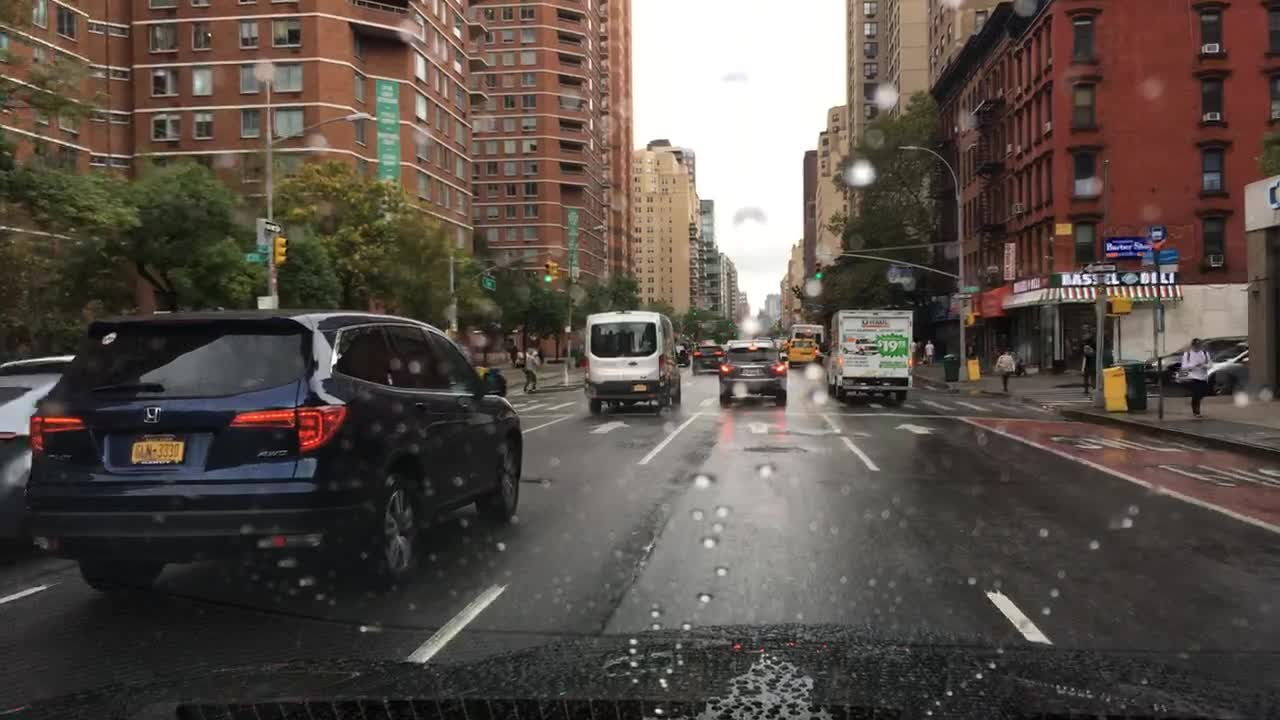car: (21, 305, 525, 590), (0, 350, 81, 564), (581, 308, 685, 413), (1140, 333, 1245, 393), (717, 338, 791, 407), (1166, 339, 1250, 397), (688, 342, 726, 375), (788, 337, 819, 367), (788, 320, 826, 342), (676, 339, 691, 367), (772, 337, 786, 362)
person: (1177, 337, 1214, 419), (1079, 324, 1096, 394), (995, 347, 1018, 397), (519, 347, 542, 393), (506, 338, 521, 369), (923, 335, 935, 367)
traffic light: (274, 234, 289, 267), (1110, 297, 1131, 314), (542, 259, 551, 280), (551, 259, 557, 280), (965, 314, 975, 325), (816, 261, 821, 277)
traffic sign: (1147, 222, 1166, 248), (1154, 246, 1177, 261), (1136, 248, 1155, 266), (1085, 262, 1116, 273), (480, 274, 500, 289), (245, 252, 267, 264), (959, 284, 980, 292), (265, 222, 281, 232), (950, 292, 972, 299)
truck: (822, 308, 914, 407)
